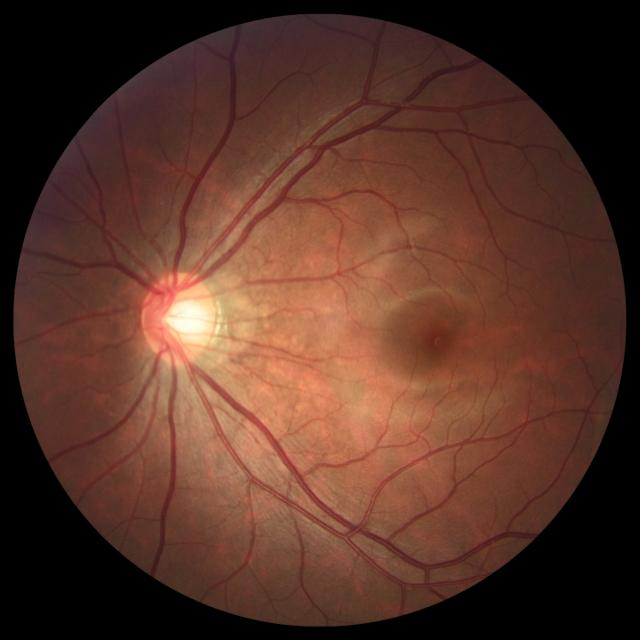OC: (161, 296, 203, 341)
OD: (142, 269, 216, 367)
